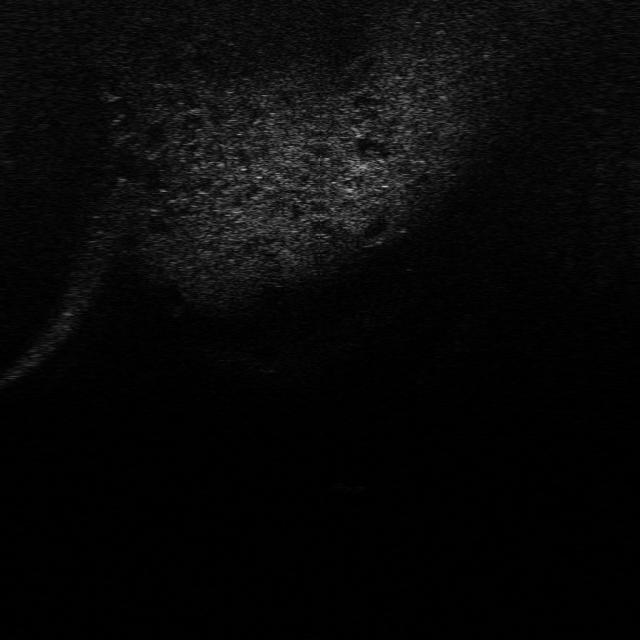cube: (326, 466, 376, 497)
